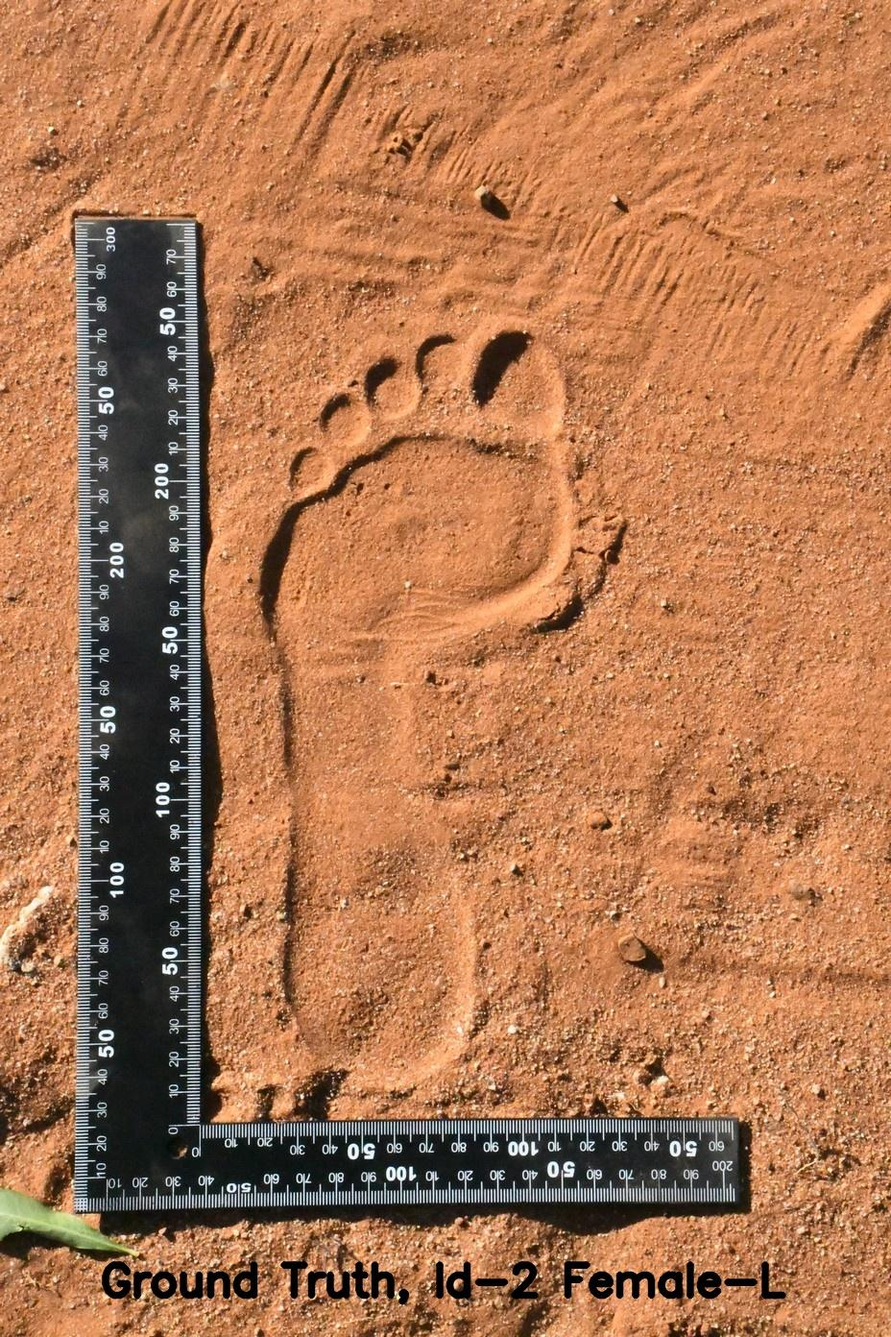human_footprint: (228, 280, 606, 1098)
